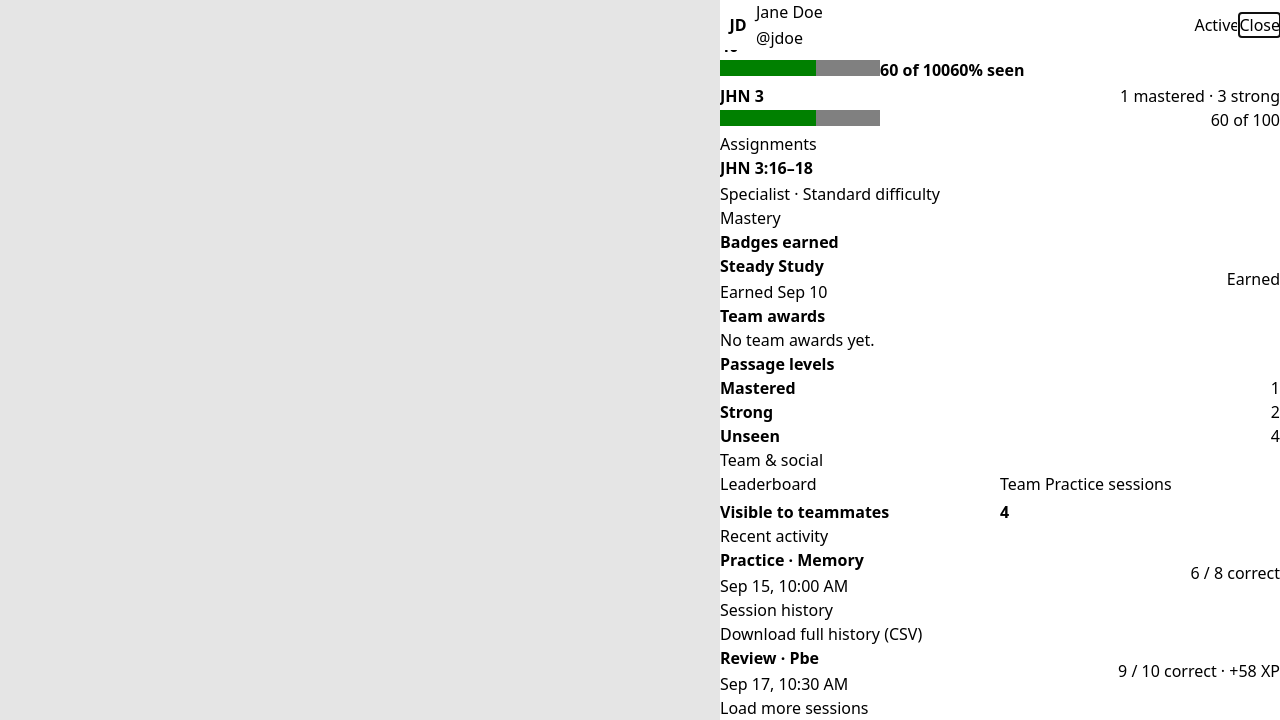
Scenario: renders the paginated session history with per-session XP and a CSV download
(page scrolled)
expect the element with test id "student-dashboard-history" is shown: met, box x1=720 y1=598 x2=1279 y2=719
expect the text "9 / 10 correct · +58 XP" is shown: met, box x1=1118 y1=659 x2=1279 y2=683
Click the button "Load more sessions".
click(794, 708)  # box x1=720 y1=696 x2=868 y2=719
(page scrolled)
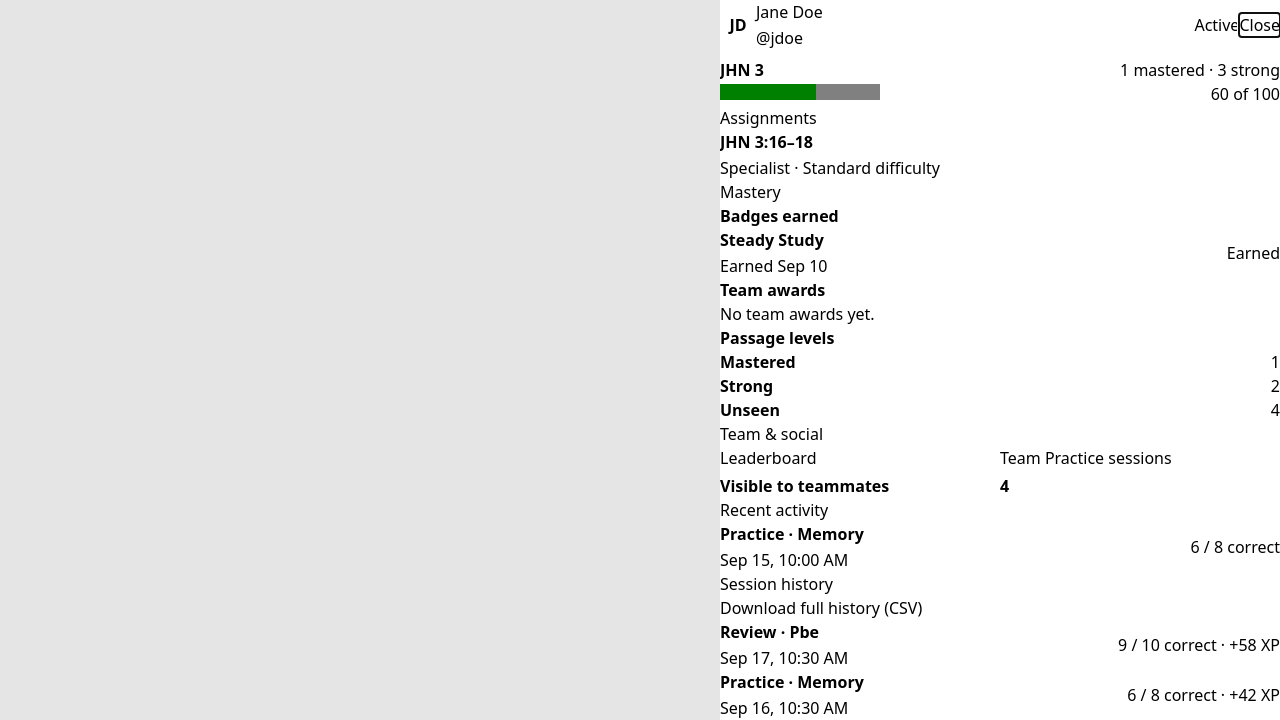
expect the text "6 / 8 correct · +42 XP" is shown: met, box x1=1127 y1=683 x2=1279 y2=707
